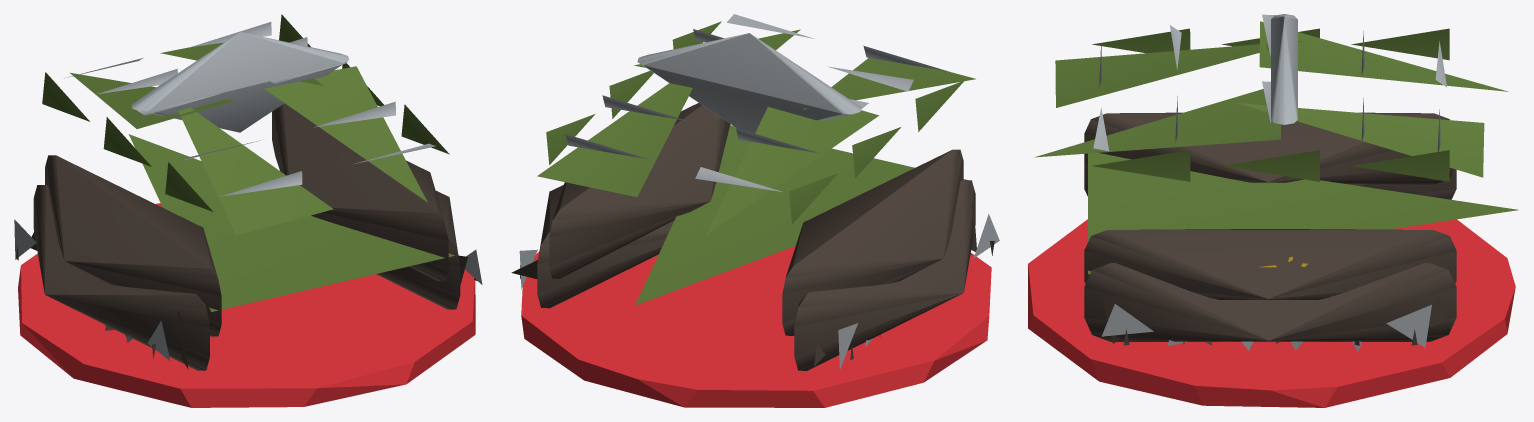
Rendered from china_engineer_lod1.glb.
3 views of the same model, side by side, from view 1: azimuth 30°, elevation 25°; view 2: azimuth 150°, elevation 25°; view 3: azimuth 270°, elevation 25° (orthographic). The views are drawn at different scales.
Parts seen in each view (by area): view 1: body_hull, base_pedestal; view 2: body_hull, base_pedestal; view 3: body_hull, base_pedestal.
Part boxes in pixels (x1,y1,x2,y2): body_hull: [14, 14, 482, 370]; base_pedestal: [18, 203, 475, 407]; body_hull: [511, 14, 999, 370]; base_pedestal: [521, 246, 991, 407]; body_hull: [1035, 14, 1518, 351]; base_pedestal: [1028, 219, 1515, 407].
Size of the model in its own units: 0.782 by 0.5074 by 0.7815.
